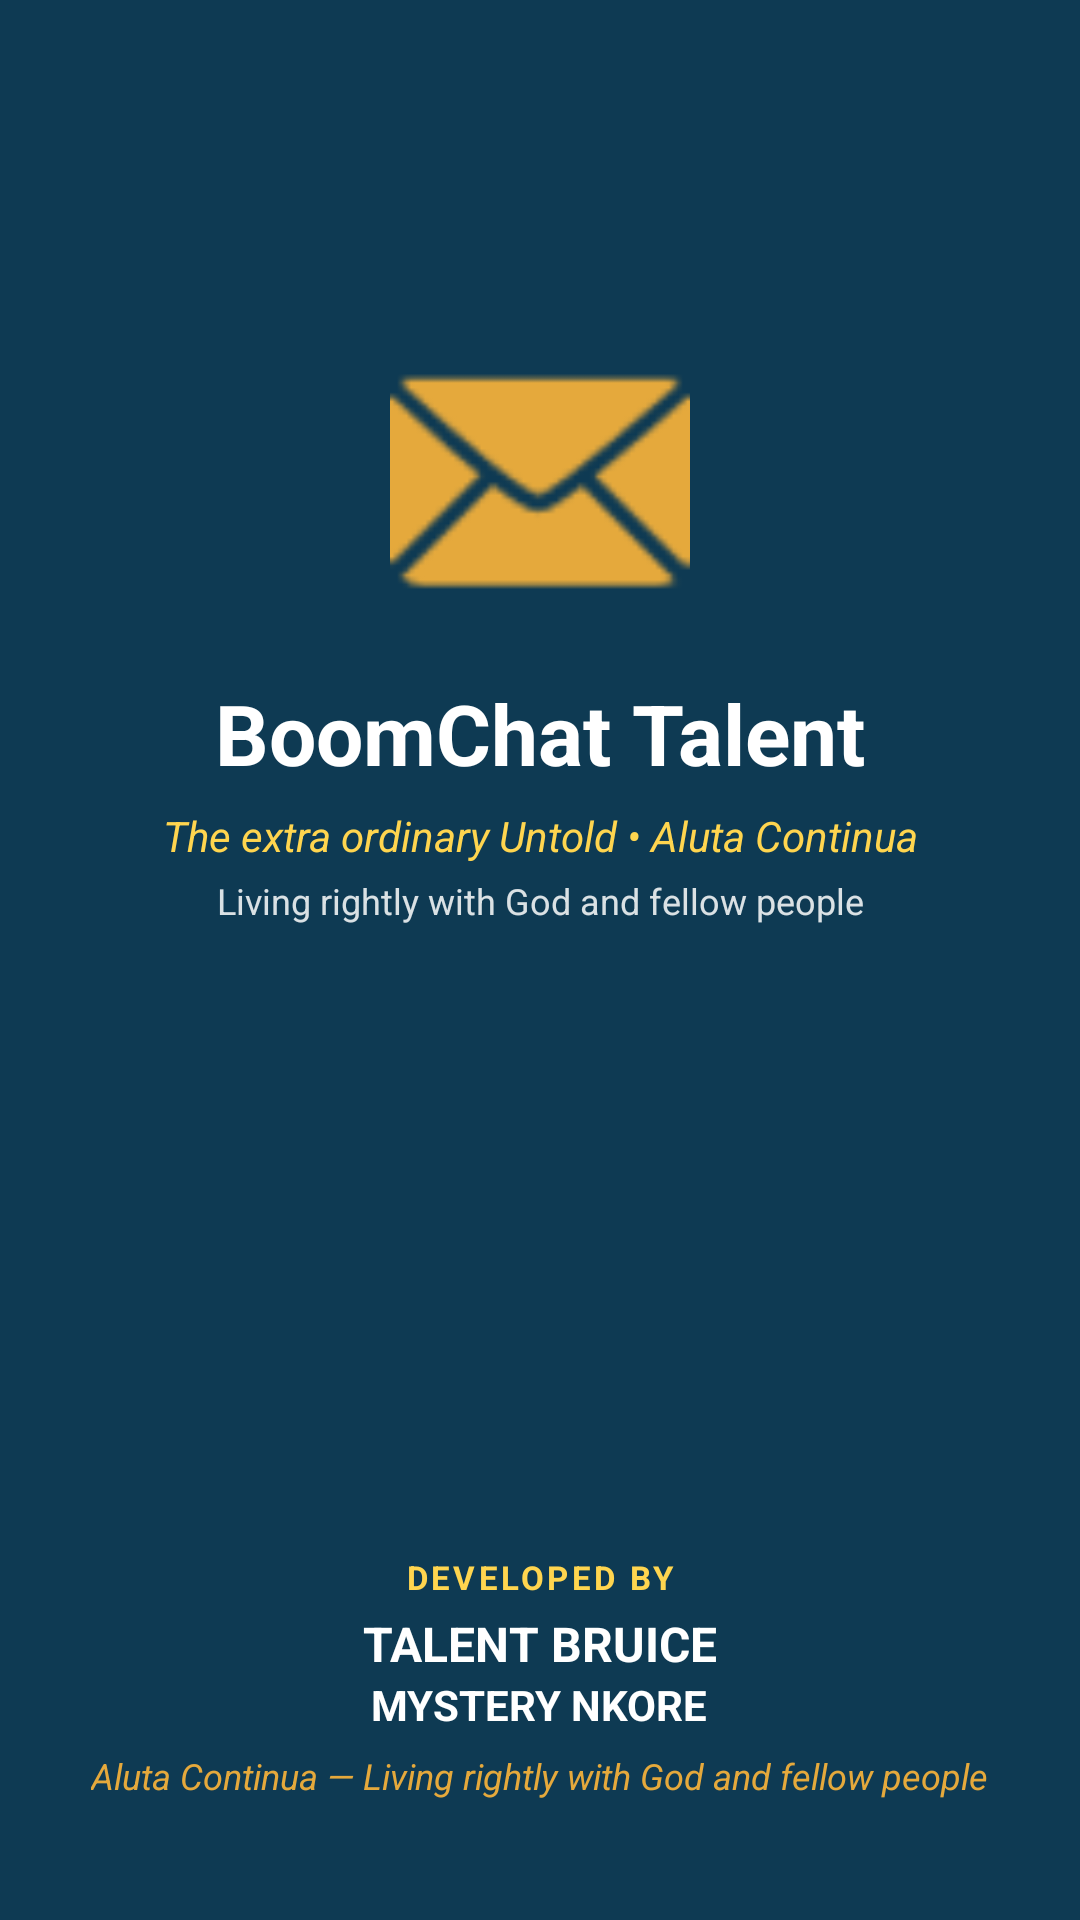

Locate icon controls on the screen. Image size 1080w x 1920h, boxes as (x1, y1, x2, y2).
email: (390, 375, 690, 588)
